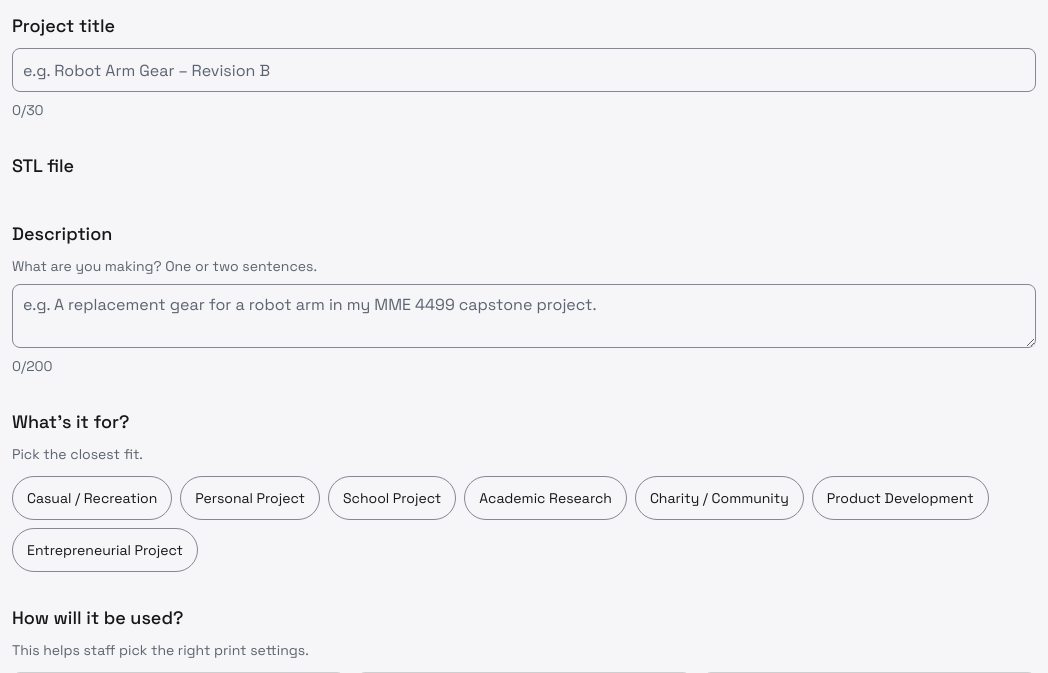
PrintJobForm: phone layout › limits the project title to 30 characters and counts them
The image size is (1048, 673).
In the field labelled "Project title": (524, 70) x1=12 y1=48 x2=1036 y2=92, type "Gear"
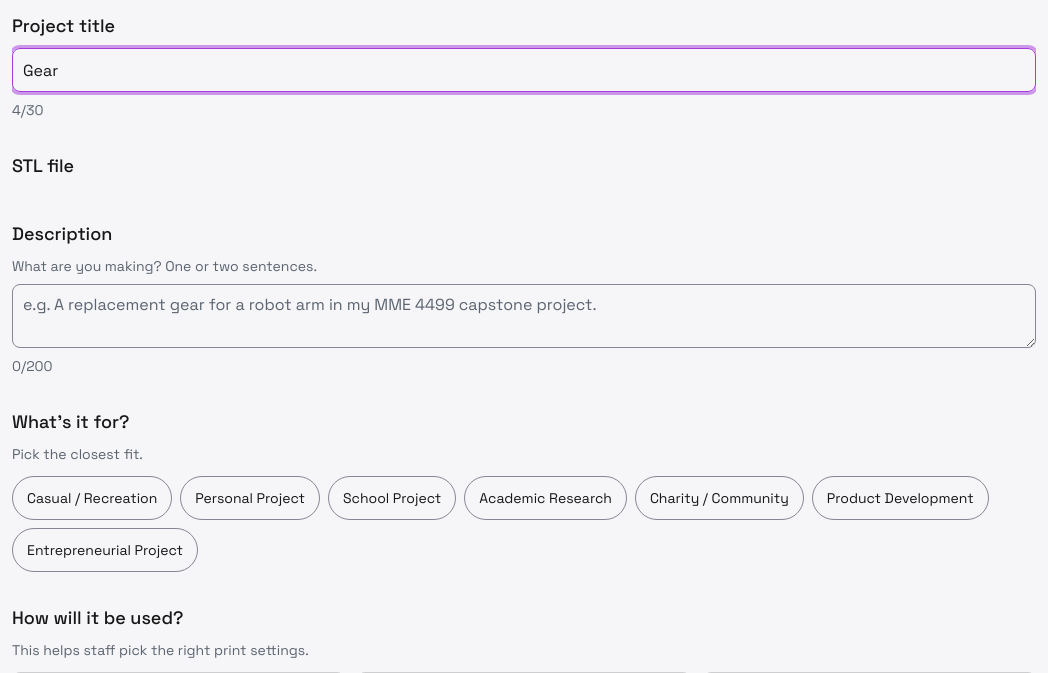
Check: the text "4/30" is shown, box x1=12 y1=100 x2=43 y2=120
